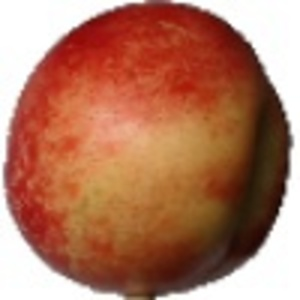nectarina: (2, 1, 294, 300)
